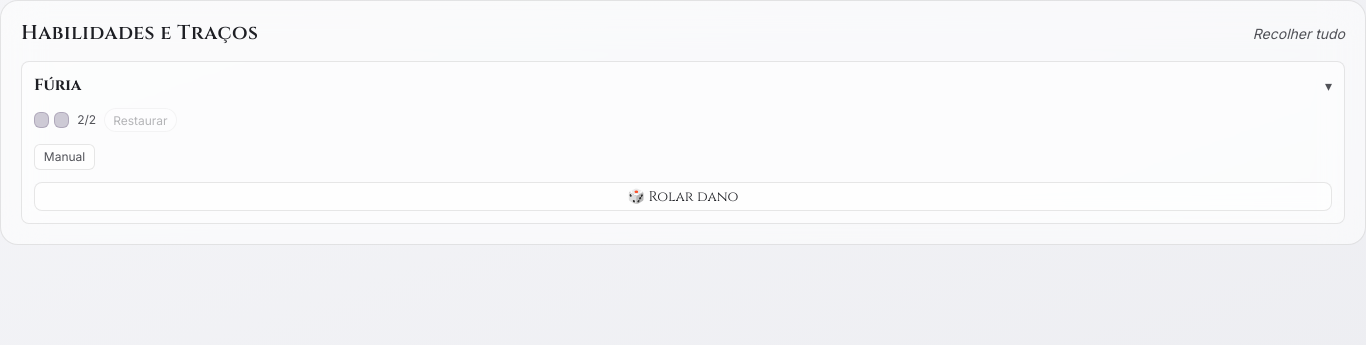
it: limpar resultado de rolagem — ResourcesPanel › limpa o resultado da habilidade
Click the button "🎲 Rolar dano": (683, 196) 34,182 -> 1332,211
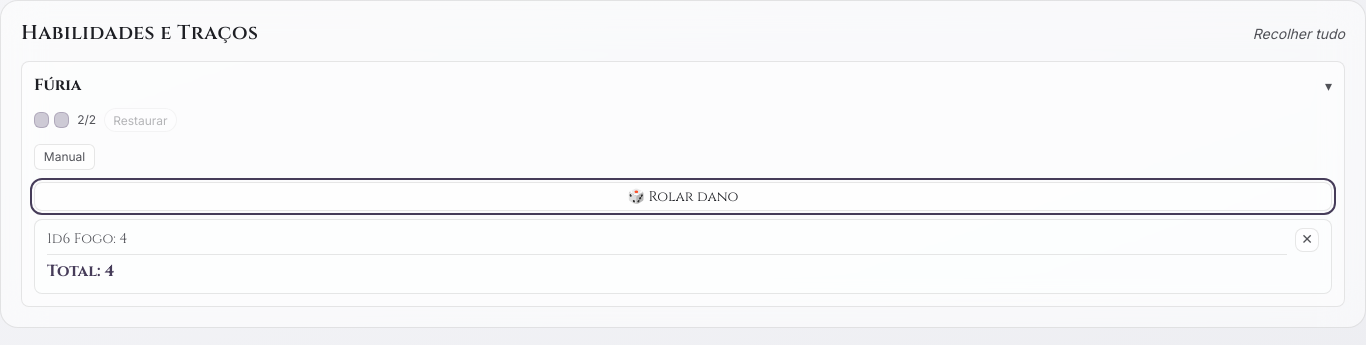
Result: the text "Total: 4" is shown at 47,254 -> 1287,285
Click the button named "Limpar resultado da rolagem": (1307, 240) 1295,228 -> 1319,252
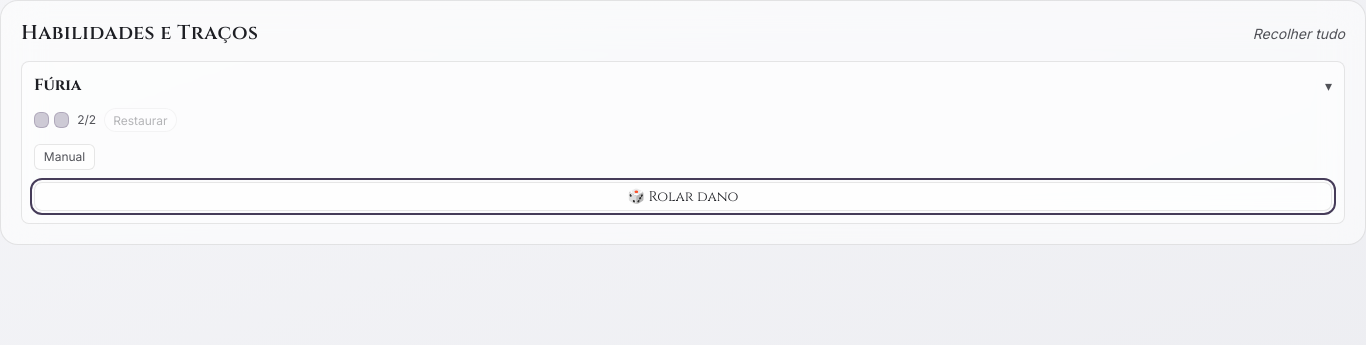
Result: the text "Total: 4" is gone
Click the button "🎲 Rolar dano": (683, 196) 34,182 -> 1332,211
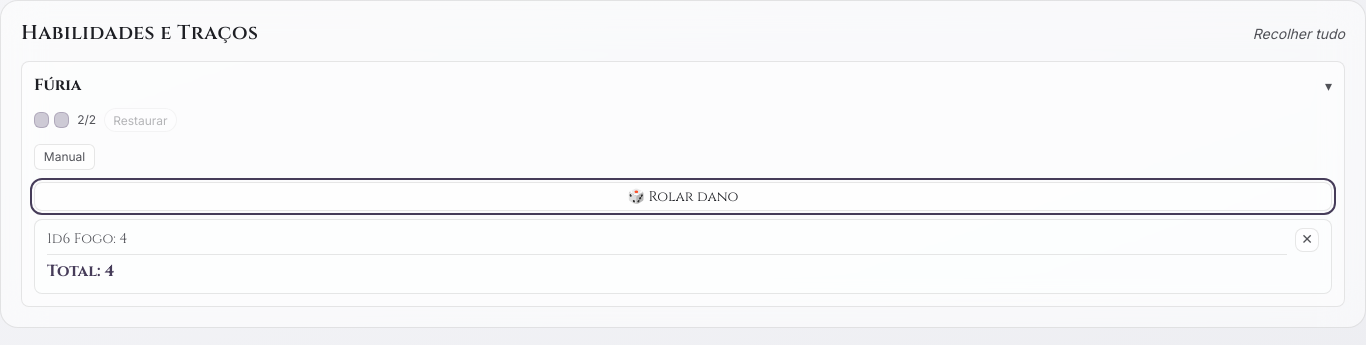
Result: the text "Total: 4" is shown at 47,254 -> 1287,285
